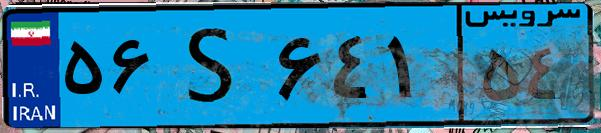1: (385, 28, 445, 110)
4: (330, 28, 385, 110), (525, 38, 570, 115)
5: (57, 26, 110, 100), (475, 38, 525, 113)
6: (270, 28, 330, 110), (110, 28, 158, 98)
S: (158, 12, 270, 120)
